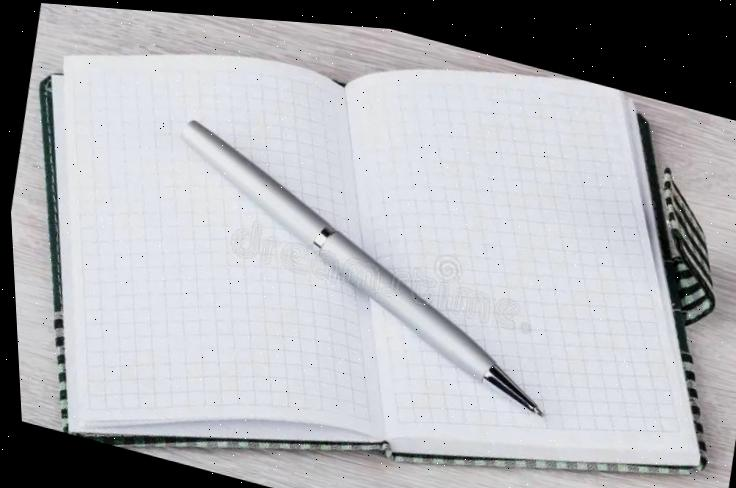pen-pencil: (182, 120, 542, 415)
